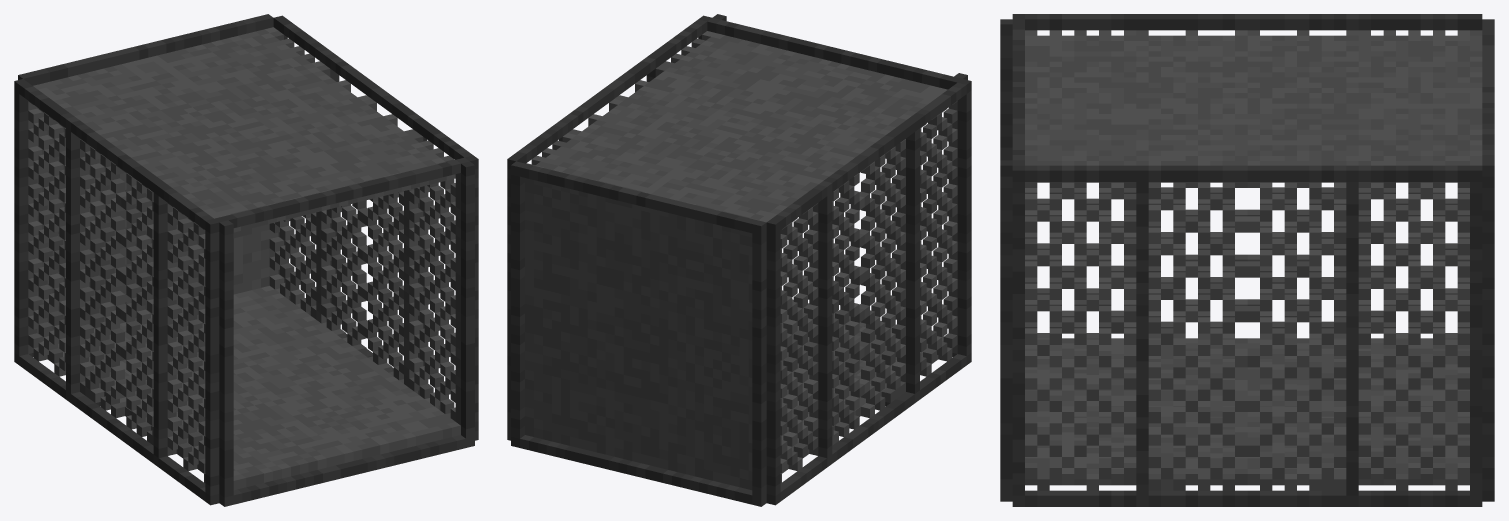
The model's file is Ascensor-2-CAbina.obj.
The picture shows the model from 3 angles, left to right: view 1: azimuth 30°, elevation 25°; view 2: azimuth 150°, elevation 25°; view 3: azimuth 270°, elevation 25°; orthographic projection. The views are drawn at different scales.
Parts seen in each view (by area): view 1: CAbina; view 2: CAbina; view 3: CAbina.
Boxes of the visible parts, x1,y1,x2,y2 form: CAbina: (14,14,478,506); CAbina: (507,14,971,506); CAbina: (1000,14,1494,506).
Bounding box in the file's own units: 3 × 3 × 4.
1 material, 1 textured.
